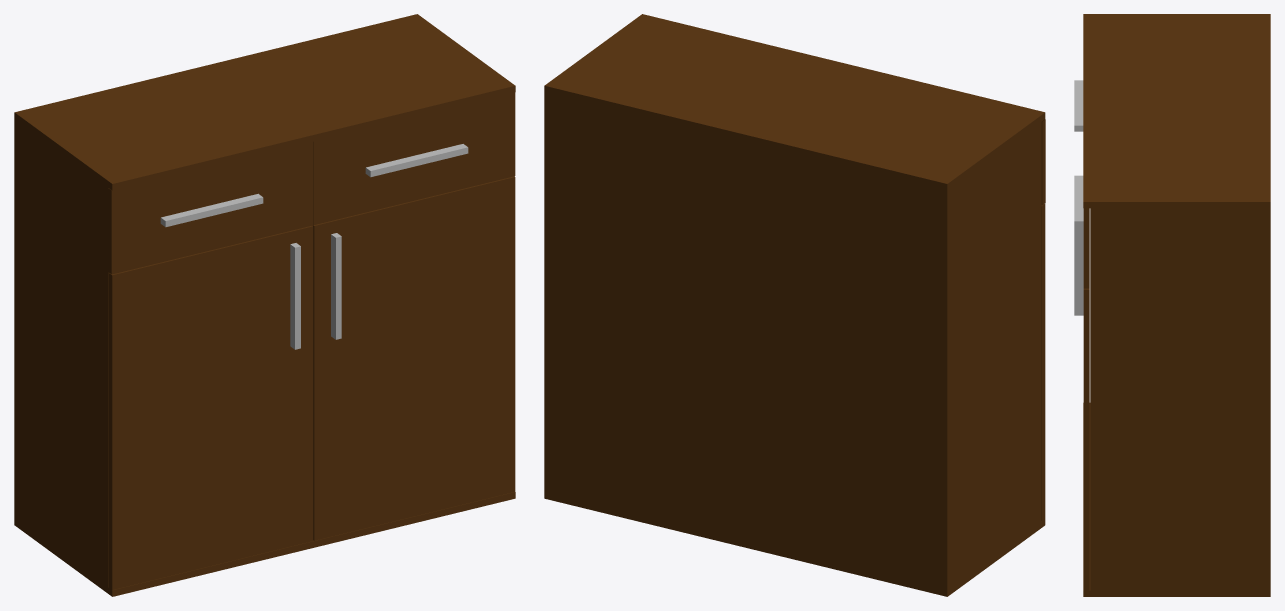
Rendered from kommode.obj.
3 renders of one model, left to right at view 1: azimuth 30°, elevation 25°; view 2: azimuth 150°, elevation 25°; view 3: azimuth 270°, elevation 25°, orthographic. The views are drawn at different scales.
Visible parts, largest first — view 1: Mesh5_Group3_Model, Mesh27_Komponente_2_2_Model, Mesh12_Komponente_2_1_Model, Mesh22_Komponente_1_2_Model, Mesh7_Komponente_1_1_Model; view 2: Mesh5_Group3_Model, Mesh27_Komponente_2_2_Model; view 3: Mesh5_Group3_Model, Mesh12_Komponente_2_1_Model, Mesh7_Komponente_1_1_Model, Mesh22_Komponente_1_2_Model.
Boxes of the visible parts, left/top/right/bottom form: Mesh5_Group3_Model: left=14, top=14, right=515, bottom=596; Mesh27_Komponente_2_2_Model: left=109, top=225, right=313, bottom=589; Mesh12_Komponente_2_1_Model: left=313, top=176, right=515, bottom=540; Mesh22_Komponente_1_2_Model: left=108, top=142, right=313, bottom=274; Mesh7_Komponente_1_1_Model: left=313, top=92, right=515, bottom=224; Mesh5_Group3_Model: left=544, top=14, right=1045, bottom=596; Mesh27_Komponente_2_2_Model: left=1041, top=204, right=1045, bottom=520; Mesh5_Group3_Model: left=1083, top=14, right=1270, bottom=596; Mesh12_Komponente_2_1_Model: left=1074, top=227, right=1090, bottom=590; Mesh7_Komponente_1_1_Model: left=1074, top=175, right=1089, bottom=288; Mesh22_Komponente_1_2_Model: left=1074, top=80, right=1083, bottom=131.
Size of the model in its own units: 95.1 by 93 by 41.9.
